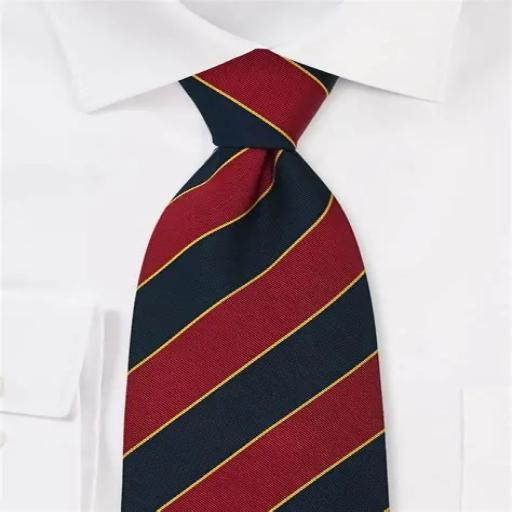person: (1, 0, 510, 511)
tie: (120, 48, 391, 510)
